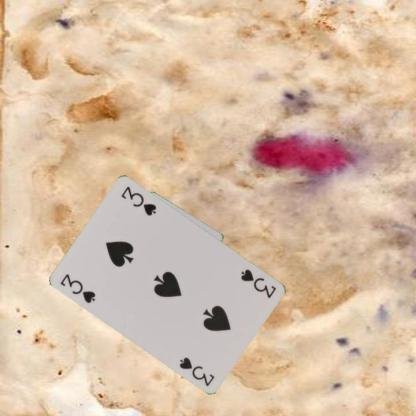3s: (238, 266, 278, 299), (58, 271, 98, 304)
